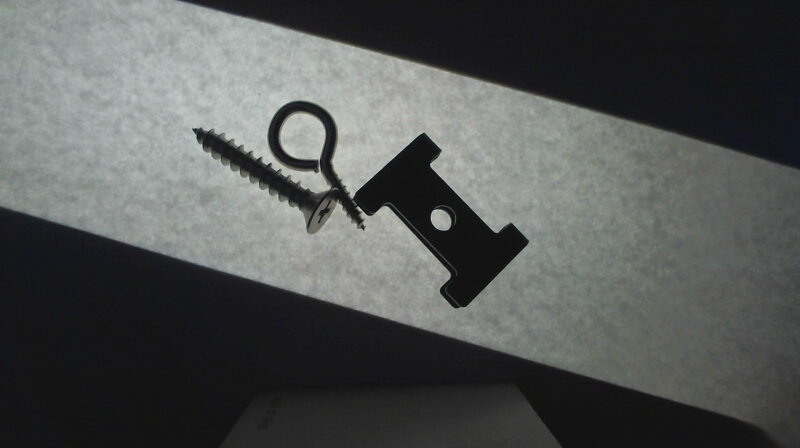O001: (266, 99, 368, 232)
O002: (356, 133, 529, 307)
S001: (188, 123, 339, 233)
